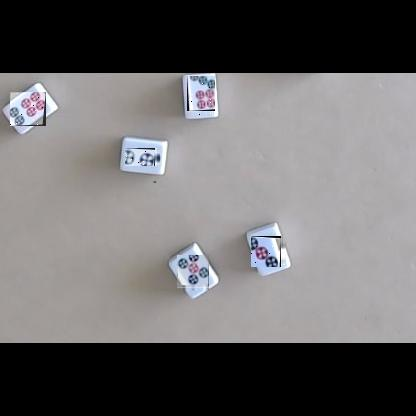2p: (126, 148, 160, 166)
3p: (252, 236, 286, 267)
5p: (177, 256, 209, 291)
6p: (10, 92, 46, 126)
7p: (187, 77, 215, 116)
